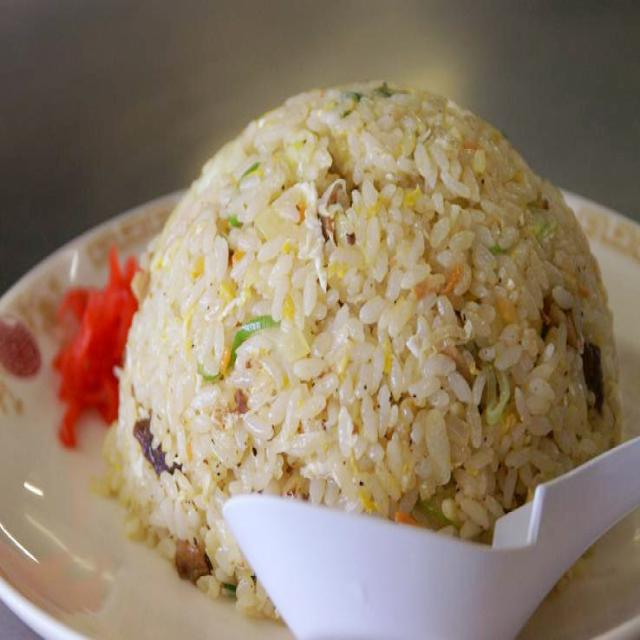米饭主食: (0, 51, 639, 640)
